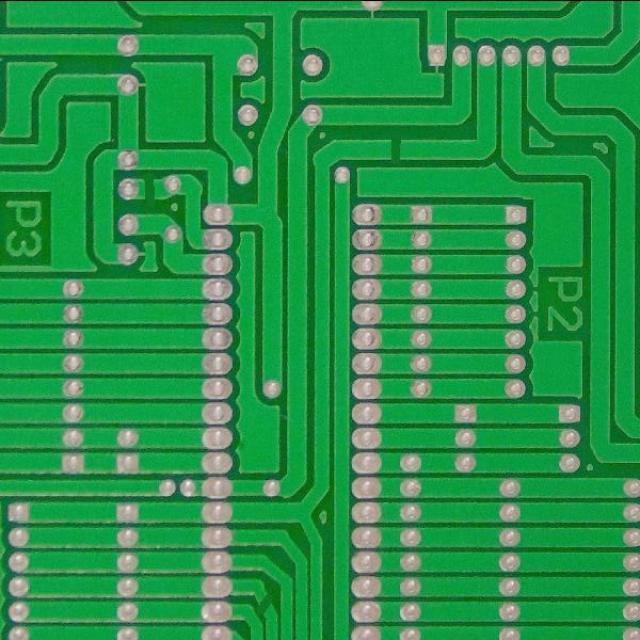Open_Circuit: (382, 123, 412, 175), (138, 163, 163, 211), (253, 588, 279, 618)
